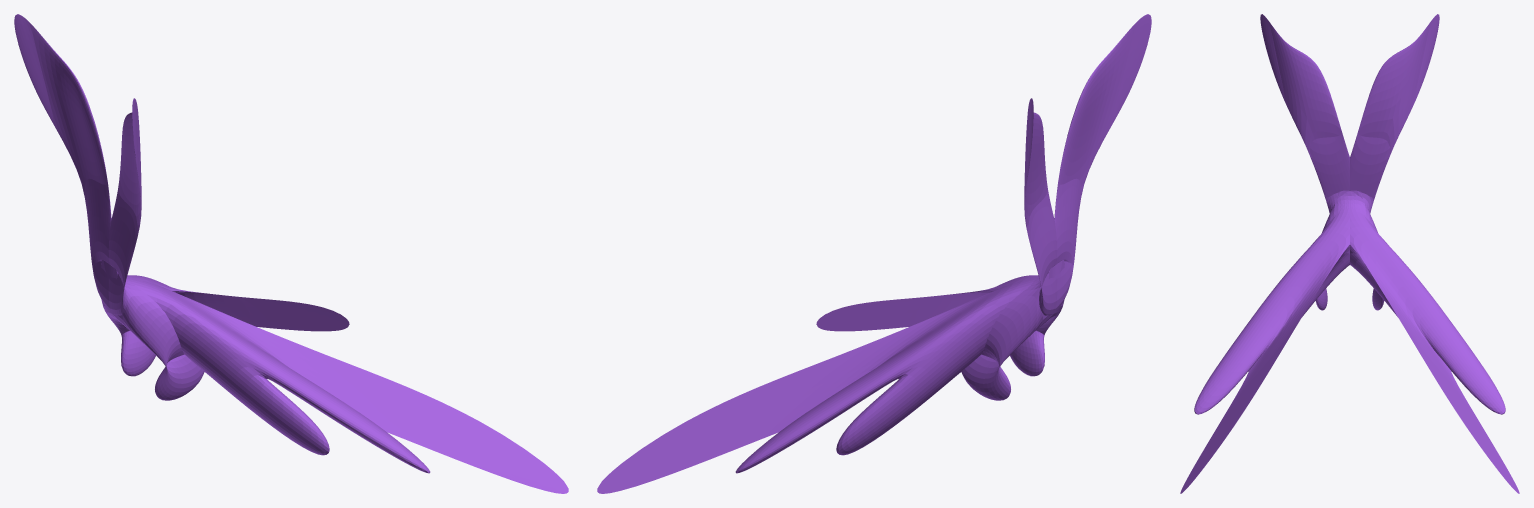
File: Creaturestruc15.obj
3 renders of one model, left to right at view 1: azimuth 30°, elevation 25°; view 2: azimuth 150°, elevation 25°; view 3: azimuth 270°, elevation 25°, orthographic. The views are drawn at different scales.
Visible parts, largest first — view 1: Cube_Cube.016; view 2: Cube_Cube.016; view 3: Cube_Cube.016.
Part boxes in pixels (box(x1,y1,x2,y2)): Cube_Cube.016: box(14, 14, 568, 493); Cube_Cube.016: box(597, 14, 1151, 493); Cube_Cube.016: box(1180, 14, 1519, 493).
Size of the model in its own units: 17.38 by 19.31 by 17.5.
